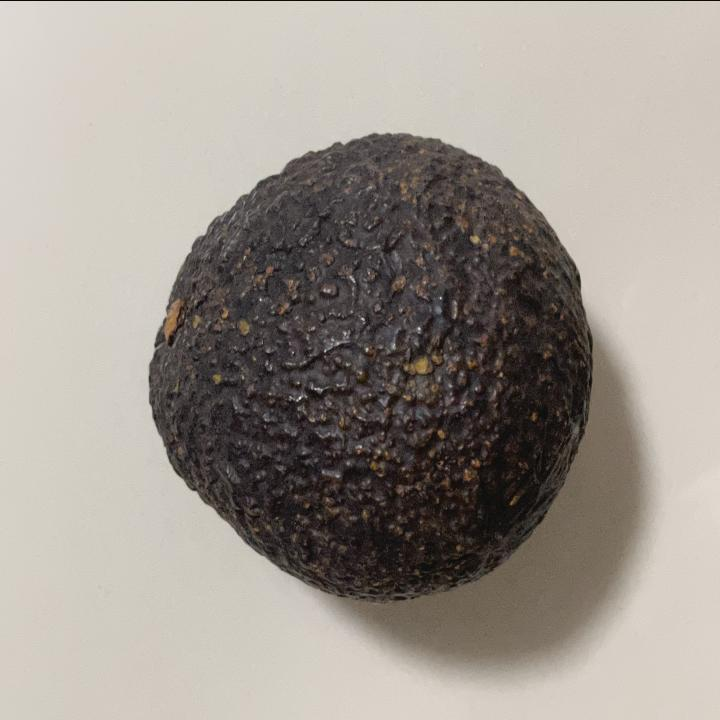Level2: (138, 125, 598, 613)
